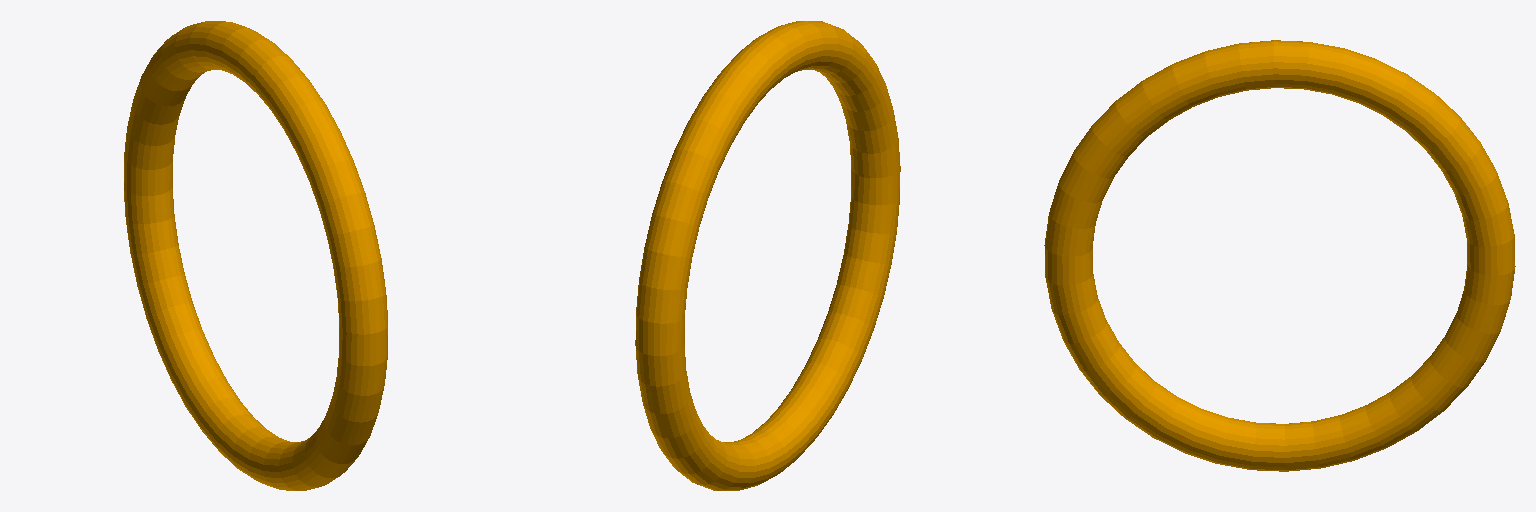
URDF robot description (ring):
<robot name="ring" xmlns:xacro="http://ros.org/wiki/xacro">
<link name="ring">
    <inertial>
      <mass value="8.22"/>
      <origin rpy="0 0 0" xyz="0 0 0"/>
      <inertia ixx="0.11866378" ixy="-0.000143482" ixz="0.003271293" iyy="0.097963425" iyz="0.002159545" izz="0.083854638"/>
    </inertial>
    <visual>
      <geometry>
        <mesh filename="package://trajopt/data/ring.stl"/>
      </geometry>
      <origin rpy="0.0 0.0 0.0" xyz="0.0 0.0 0.0"/>
    </visual>
    <collision>
      <geometry>
        <mesh filename="package://trajopt/data/ring.stl"/>
      </geometry>
      <origin rpy="0 0 0" xyz="0 0 0"/>
    </collision>
</link>
</robot>

--- Render facts (derived) ---
The picture shows the robot from 3 angles, left to right: view 1: azimuth 30°, elevation 25°; view 2: azimuth 150°, elevation 25°; view 3: azimuth 270°, elevation 25°; orthographic projection.
Model ring with 1 links and 0 joints (none), rooted at ring, posed all joints at 0.
Visible links, largest first — view 1: ring; view 2: ring; view 3: ring.
Link boxes in pixels (x1,y1,x2,y2): ring: (124,21,387,490); ring: (635,21,900,490); ring: (1044,40,1515,471).
Bounding box of the posed robot: 0.046 × 0.4507 × 0.4511 m (x, y, z).
1 mesh visuals loaded from 1 distinct referenced files (1 binary STL).